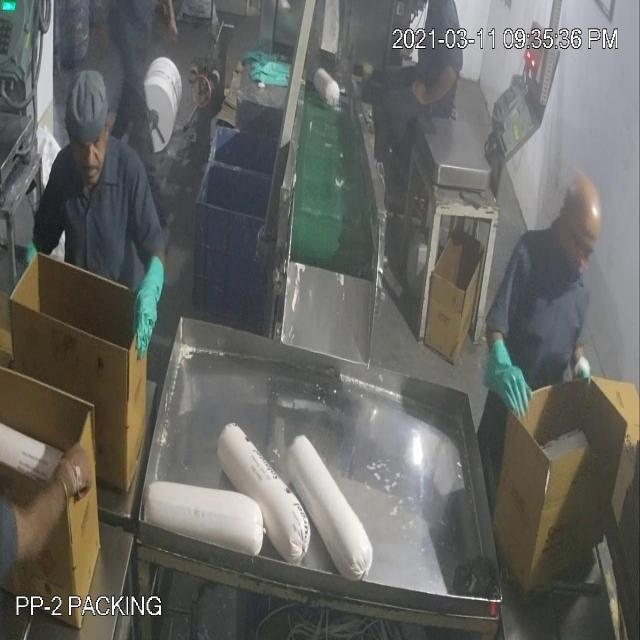No_Gloves: (48, 68, 510, 494)
